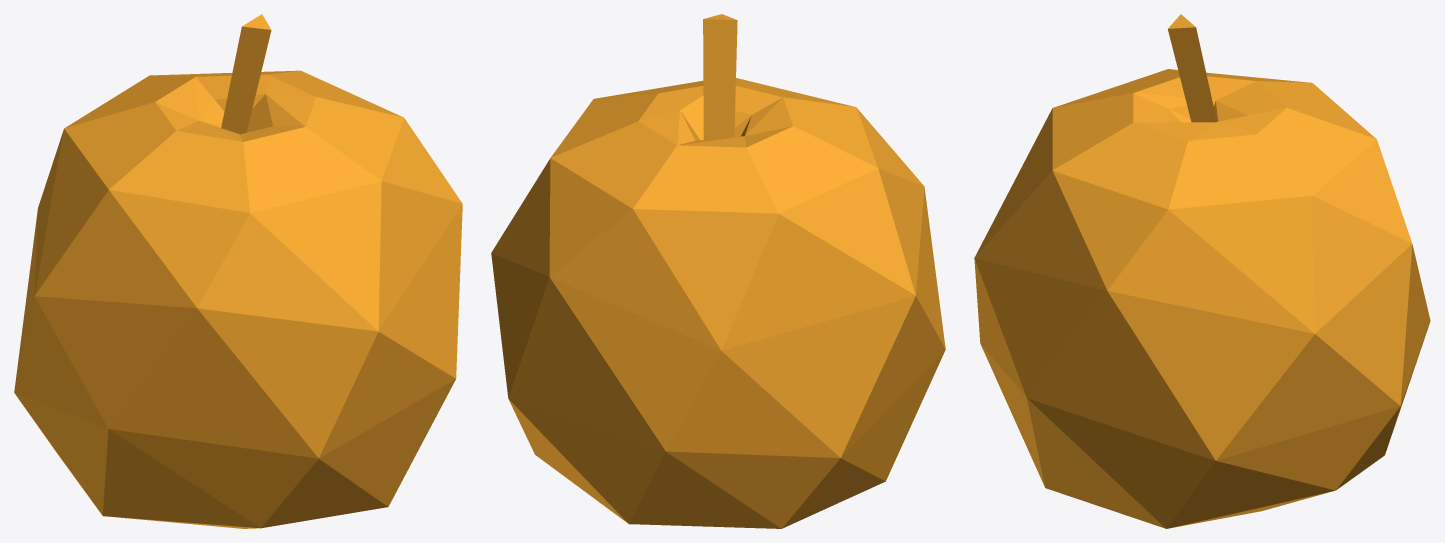
Rendered from SM_Apple_Red.fbx.
3 renders of one model, left to right at view 1: azimuth 30°, elevation 25°; view 2: azimuth 150°, elevation 25°; view 3: azimuth 270°, elevation 25°, orthographic. The views are drawn at different scales.
Visible parts, largest first — view 1: apple-red; view 2: apple-red; view 3: apple-red.
Boxes of the visible parts, x1=… form: apple-red: x1=14, y1=14, x2=462, y2=528; apple-red: x1=491, y1=14, x2=945, y2=528; apple-red: x1=974, y1=14, x2=1430, y2=528.
Bounding box in the file's own units: 0.1385 × 0.1554 × 0.1386.
